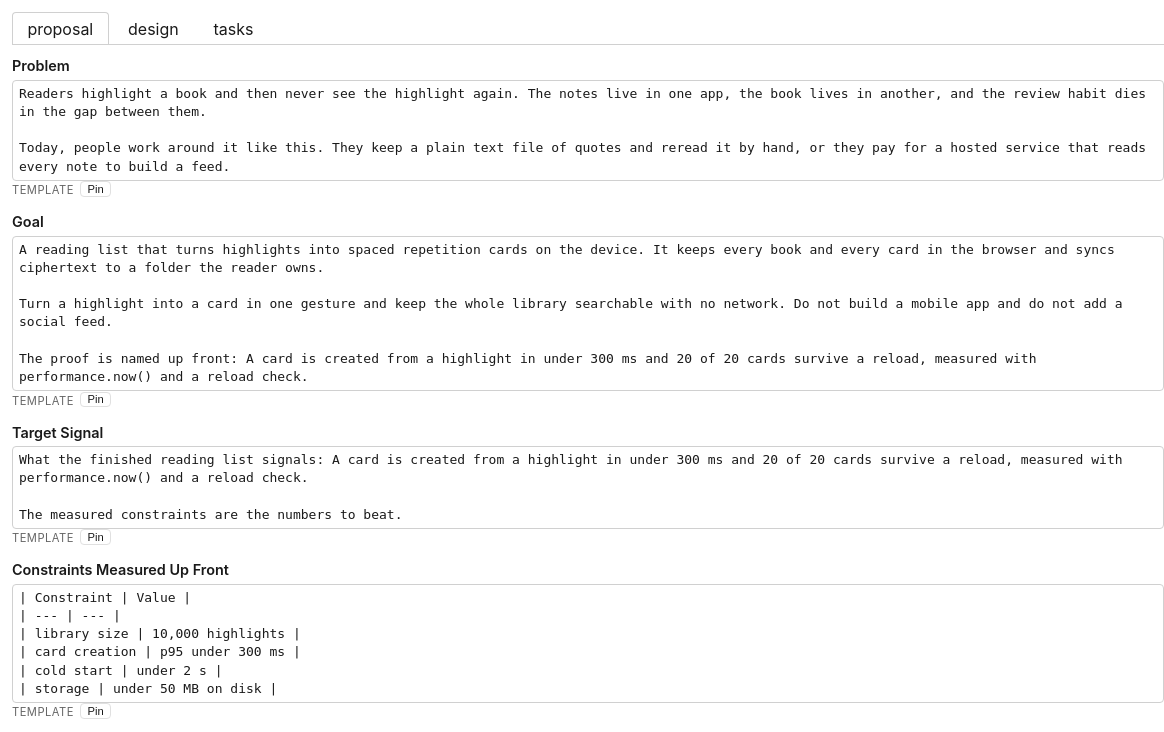
Test: OutputTabsComponent › should pin a block so a regeneration leaves its section alone
The image size is (1164, 732).
What coordinates should you click on to do the following:
click the button with class "lock-toggle" below "Problem"
I would click on:
 (96, 189)
Its box is [80,181,111,197].
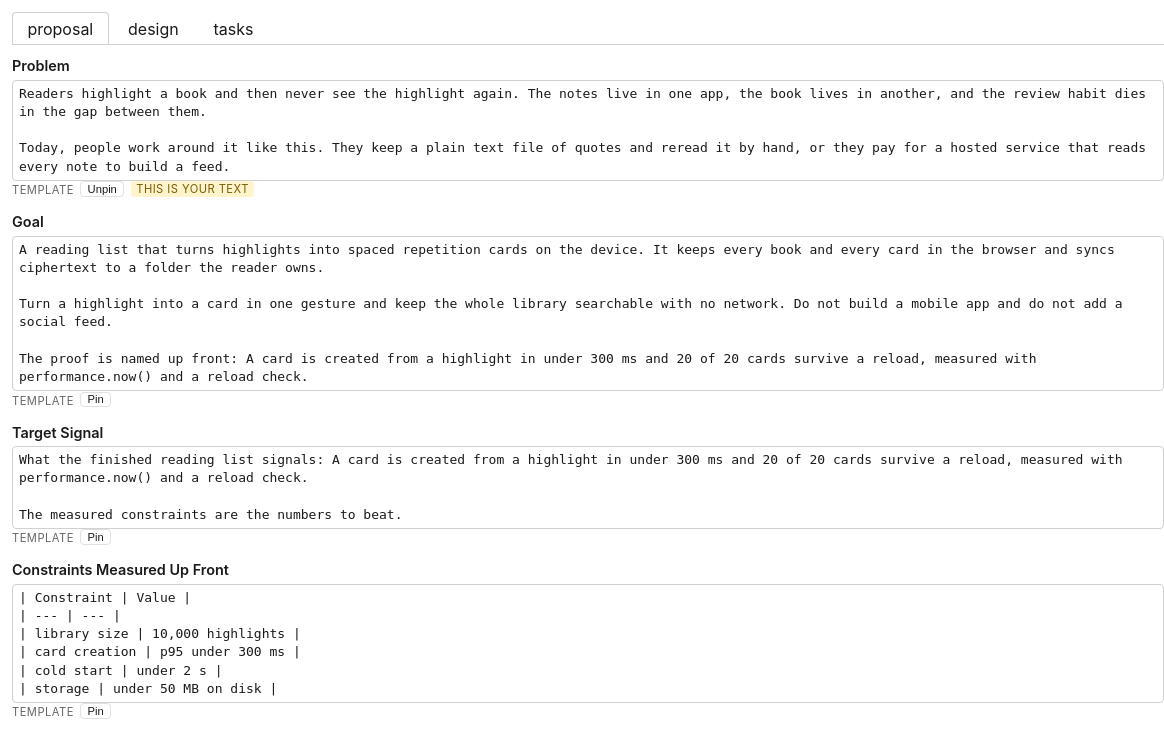
Now the text with class "lock-badge" reads "This is your text", box [136,182,249,196]
Now the button with class "lock-toggle" reads "Unpin", box [80,181,124,197]
